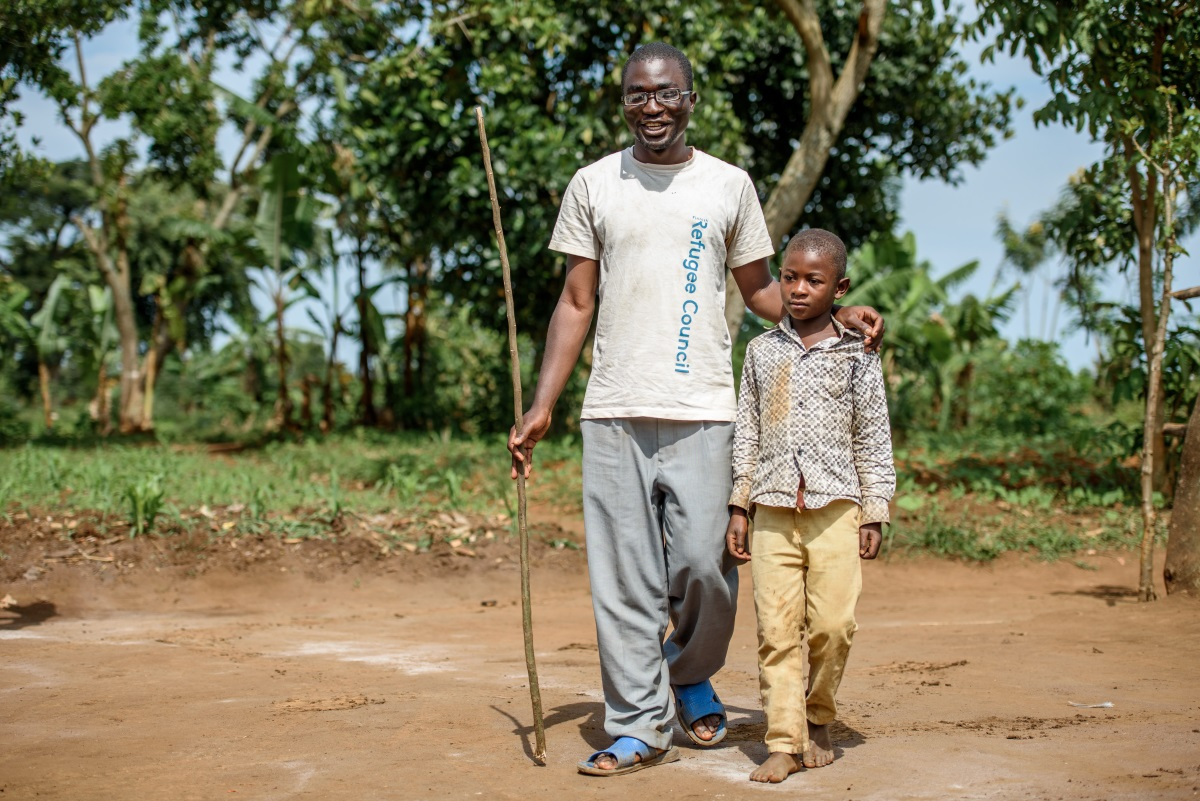Person: (506, 40, 773, 778), (727, 226, 898, 784)
